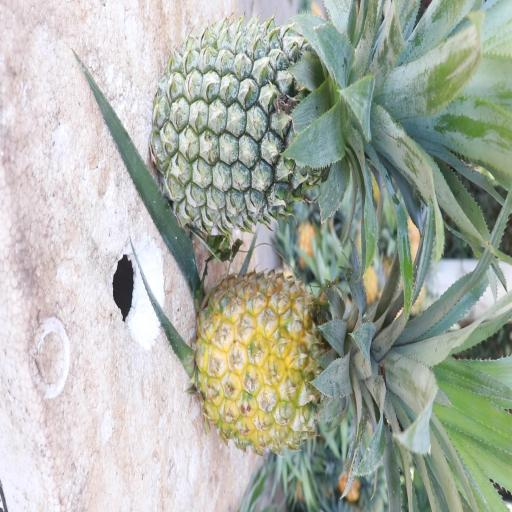Pineapple - v8 v1: (191, 248, 475, 469)
